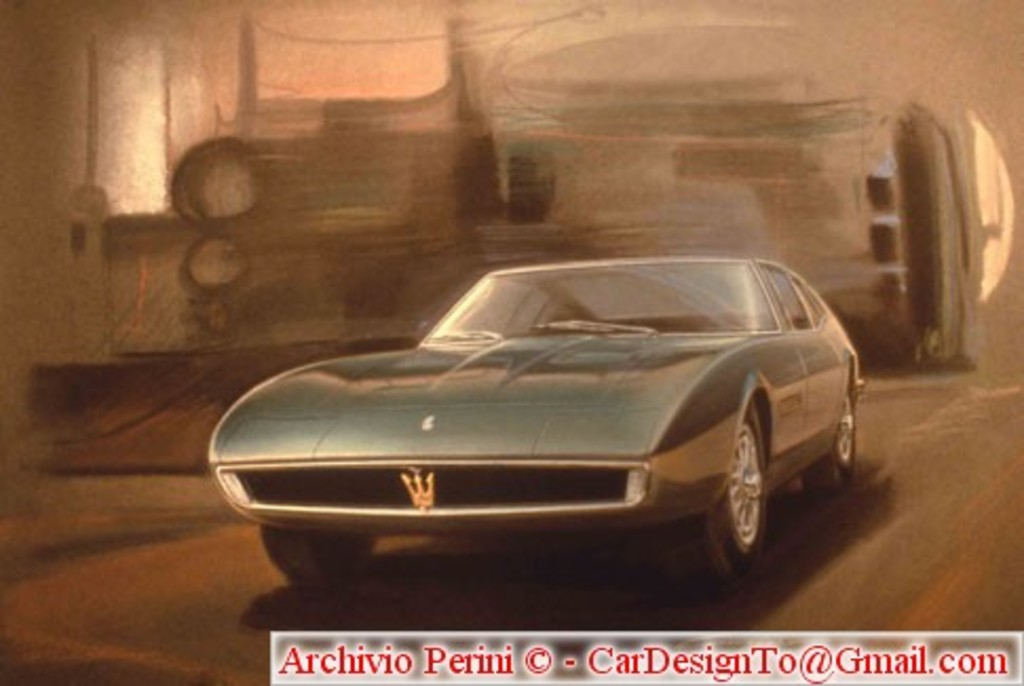Car: (204, 255, 865, 582)
